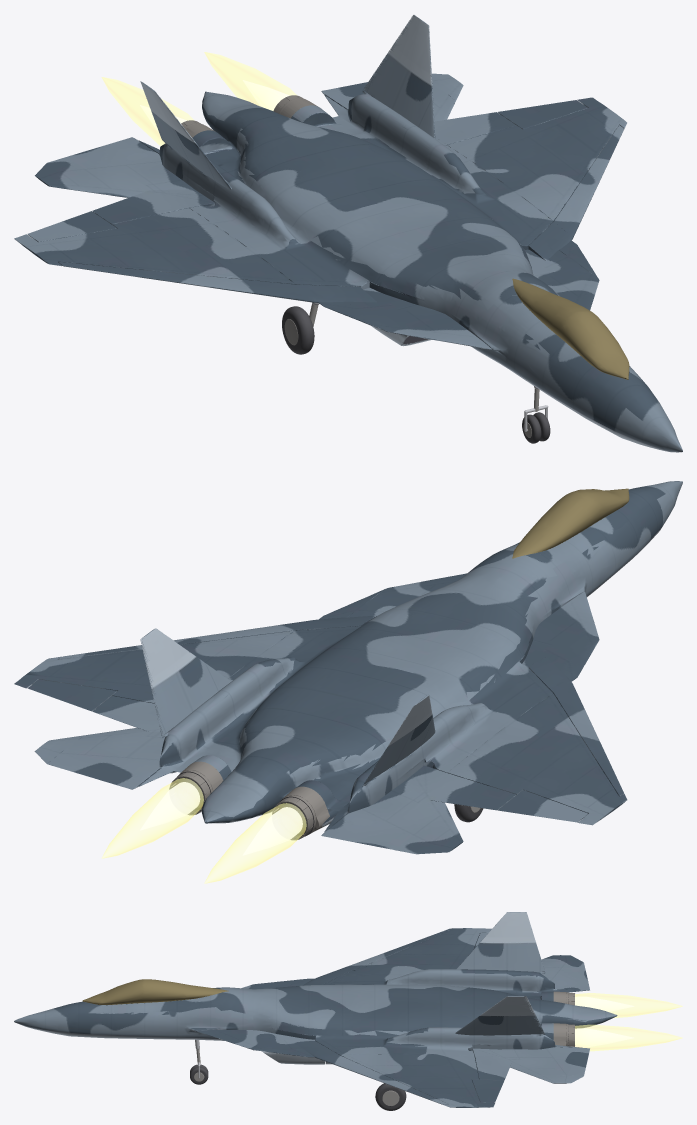
3 renders of one model, top to bottom at view 1: azimuth 30°, elevation 25°; view 2: azimuth 150°, elevation 25°; view 3: azimuth 270°, elevation 25°, orthographic. The views are drawn at different scales.
Parts seen in each view (by area): view 1: airframe, fsim:rudder (×2), fsim:lef@-5,25 (×2), fsim:lef@-2,30 (×2), fsim:elevator+aileron:-0.3@-25,25, fsim:aileron (×2), fsim:aileron+flaps:-1@-25,25, fsim:afterburner:0, fsim:afterburner:1, fsim:elevator+aileron:0.3@-25,25, fsim:aileron+flaps:1@-25,25, fsim:wheel:2:0.515 (+1 smaller); view 2: airframe, fsim:rudder (×2), fsim:elevator+aileron:-0.3@-25,25, fsim:lef@-5,25 (×2), fsim:elevator+aileron:0.3@-25,25, fsim:lef@-2,30 (×2), fsim:afterburner:0, fsim:afterburner:1, fsim:aileron (×2), fsim:aileron+flaps:-1@-25,25, fsim:aileron+flaps:1@-25,25; view 3: airframe, fsim:rudder (×2), fsim:elevator+aileron:0.3@-25,25, fsim:lef@-2,30 (×2), fsim:lef@-5,25 (×2), fsim:afterburner:0, fsim:afterburner:1, fsim:elevator+aileron:-0.3@-25,25, fsim:aileron+flaps:1@-25,25, fsim:wheel:1:0.515, fsim:aileron.
Part boxes in pixels (<box>): airframe: <box>14,91,682,452</box>; fsim:rudder (×2): <box>140,15,435,189</box>; fsim:lef@-5,25 (×2): <box>318,240,599,349</box>; fsim:lef@-2,30 (×2): <box>58,125,624,303</box>; fsim:elevator+aileron:-0.3@-25,25: <box>35,137,193,197</box>; fsim:aileron (×2): <box>27,100,587,242</box>; fsim:aileron+flaps:-1@-25,25: <box>92,189,214,224</box>; fsim:afterburner:0: <box>204,52,297,110</box>; fsim:afterburner:1: <box>101,77,194,145</box>; fsim:elevator+aileron:0.3@-25,25: <box>321,73,463,121</box>; fsim:aileron+flaps:1@-25,25: <box>434,112,516,145</box>; fsim:wheel:2:0.515: <box>282,306,314,354</box>; airframe: <box>14,481,682,834</box>; fsim:rudder (×2): <box>140,628,435,784</box>; fsim:elevator+aileron:-0.3@-25,25: <box>321,782,463,854</box>; fsim:lef@-5,25 (×2): <box>319,573,599,681</box>; fsim:elevator+aileron:0.3@-25,25: <box>34,728,167,789</box>; fsim:lef@-2,30 (×2): <box>58,615,624,796</box>; fsim:afterburner:0: <box>102,778,203,858</box>; fsim:afterburner:1: <box>204,803,306,883</box>; fsim:aileron (×2): <box>27,679,588,822</box>; fsim:aileron+flaps:-1@-25,25: <box>404,765,516,810</box>; fsim:aileron+flaps:1@-25,25: <box>92,696,160,731</box>; airframe: <box>14,928,617,1107</box>; fsim:rudder (×2): <box>455,912,544,1035</box>; fsim:elevator+aileron:0.3@-25,25: <box>470,1047,589,1083</box>; fsim:lef@-2,30 (×2): <box>293,931,447,1104</box>; fsim:lef@-5,25 (×2): <box>196,978,314,1057</box>; fsim:afterburner:0: <box>575,1024,682,1051</box>; fsim:afterburner:1: <box>575,993,682,1018</box>; fsim:elevator+aileron:-0.3@-25,25: <box>537,955,589,990</box>; fsim:aileron+flaps:1@-25,25: <box>472,1048,512,1080</box>; fsim:wheel:1:0.515: <box>375,1083,406,1110</box>; fsim:aileron: <box>472,1079,503,1102</box>.
Size of the model in its own units: 14.1 by 4.78 by 22.33.
9 materials, 1 textured.
